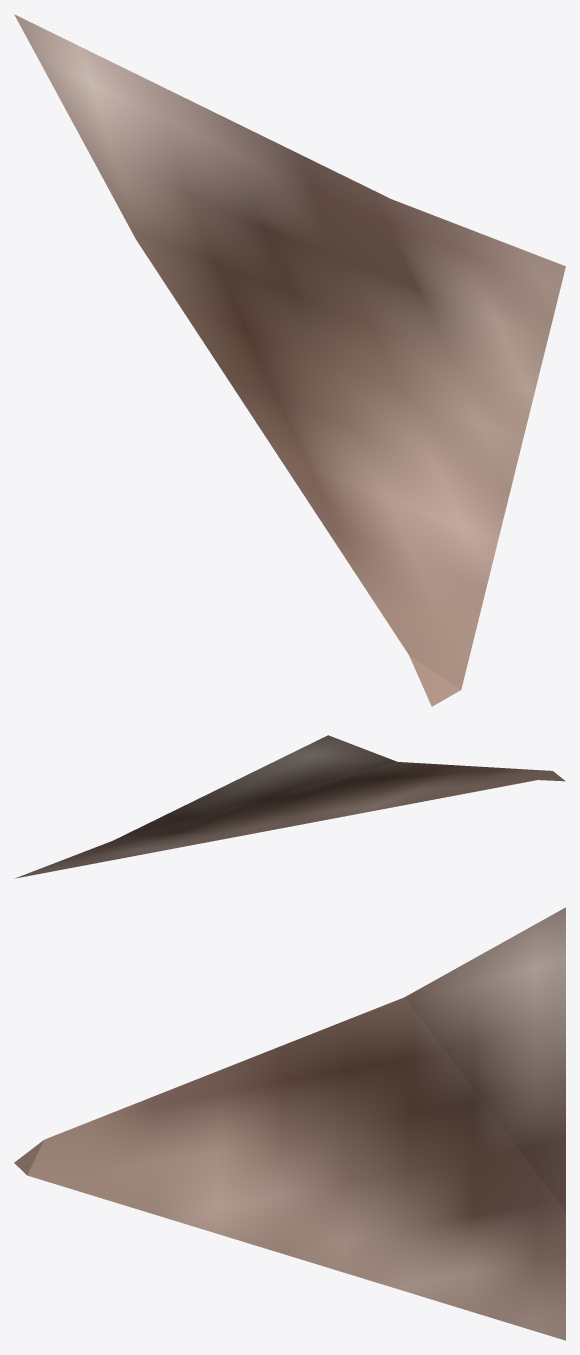
3 renders of one model, top to bottom at view 1: azimuth 30°, elevation 25°; view 2: azimuth 150°, elevation 25°; view 3: azimuth 270°, elevation 25°, orthographic. The views are drawn at different scales.
Size of the model in its own units: 0.0394 by 0.0264 by 0.0516.
Materials: 1 (1 with a texture image).
